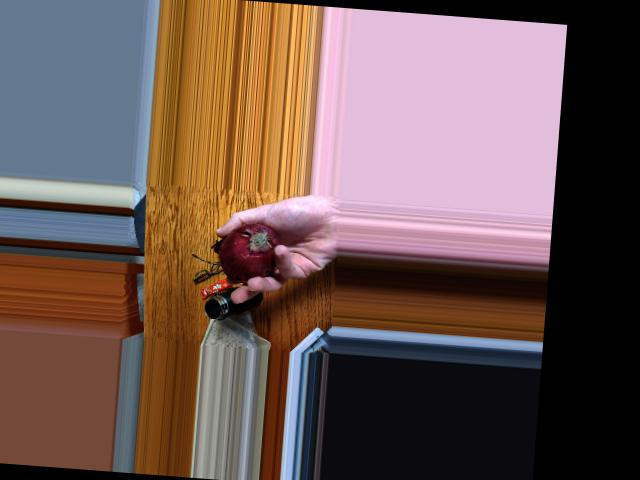onion: (217, 222, 273, 282)
